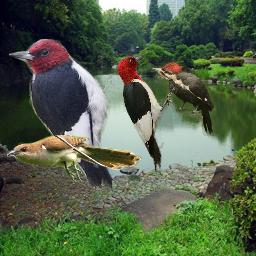Cuckoo: (7, 135, 142, 182)
Woodpecker: (9, 39, 112, 189), (116, 52, 176, 171), (148, 59, 220, 136)
